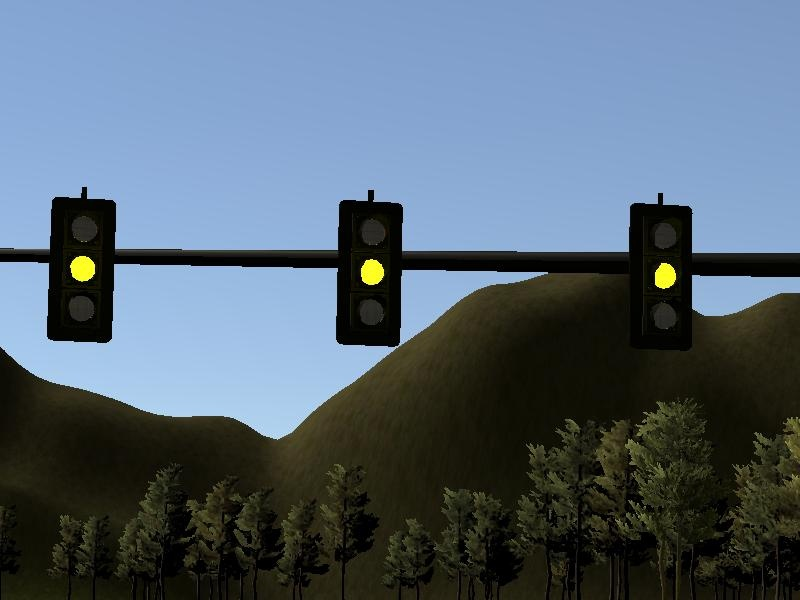yellow: (620, 184, 704, 358), (332, 179, 409, 356), (41, 180, 118, 353)
